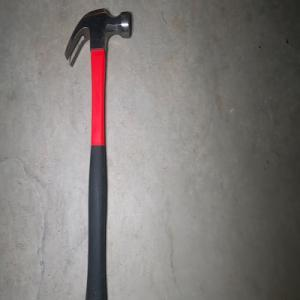Hammer: (63, 6, 131, 300)
